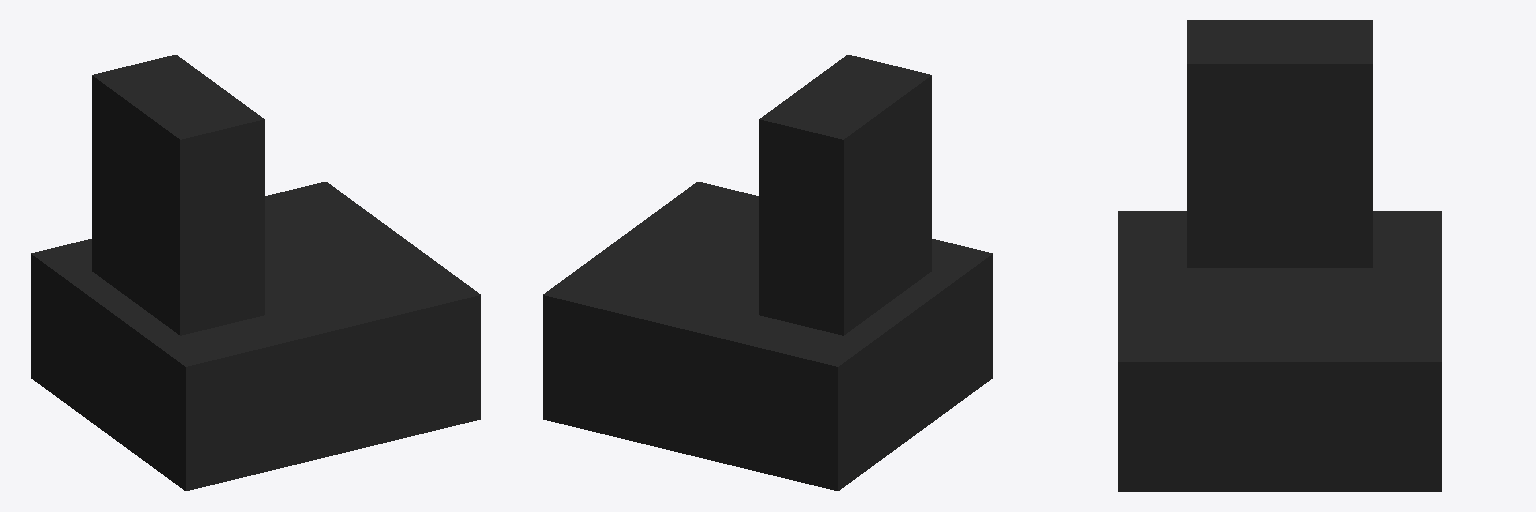
URDF robot description (sawyer_base):
<?xml version="1.0" ?>
<!-- =================================================================================== -->
<!-- |    This document was autogenerated by xacro from ./urdf.xacro                   | -->
<!-- |    EDITING THIS FILE BY HAND IS NOT RECOMMENDED                                 | -->
<!-- =================================================================================== -->
<robot name="sawyer_base" xmlns:xacro="http://www.ros.org/wiki/xacro">
  <material name="black">
    <color rgba="0 0 0 1"/>
  </material>
  <material name="darkgray">
    <color rgba=".2 .2 .2 1"/>
  </material>
  <material name="darkred">
    <color rgba=".5 .1 .1 1"/>
  </material>
  <material name="sawyer_red">
    <color rgba=".5 .1 .1 1"/>
  </material>
  <material name="sawyer_gray">
    <color rgba="0.75294 0.75294 0.75294 1"/>
  </material>
  <link name="base">
    <inertial>
      <origin rpy="0 0 0" xyz="0 0 0"/>
      <mass value="1"/>
      <inertia ixx="1" ixy="0" ixz="0" iyy="1" iyz="0" izz="1"/>
    </inertial>
  </link>
  <link name="torso">
    <visual>
      <origin rpy="0 0 0" xyz="0 0 0"/>
      <geometry>
        <box size="0 0 0"/>
      </geometry>
      <material name="darkgray"/>
    </visual>
    <inertial>
      <origin rpy="0 0 0" xyz="0.000000 0.000000 0.000000"/>
      <mass value="0.0001"/>
      <inertia ixx="1e-08" ixy="0" ixz="0" iyy="1e-08" iyz="0" izz="1e-08"/>
    </inertial>
  </link>
  <link name="pedestal">
    <visual>
      <origin rpy="1.57079632679 0 -1.57079632679" xyz="0.26 0.345 -0.91488"/>
      <geometry>
        <mesh filename="package://sawyer_description/meshes/sawyer_pv/pedestal.STL"/>
      </geometry>
      <material name="darkgray"/>
    </visual>
    <collision>
      <origin rpy="0 0 0" xyz="0 0 -0.30"/>
      <geometry>
        <cylinder length="0.62" radius="0.18"/>
      </geometry>
    </collision>
    <inertial>
      <origin rpy="0 0 0" xyz="0 0 0"/>
      <mass value="60.86397744"/>
      <inertia ixx="5.0635929" ixy="0.00103417" ixz="0.80199628" iyy="6.08689388" iyz="0.00105311" izz="4.96191932"/>
    </inertial>
  </link>
  <link name="controller_box">
    <inertial>
      <origin rpy="0 0 0" xyz="0 0 0"/>
      <mass value="1"/>
      <inertia ixx="1" ixy="0" ixz="0" iyy="1" iyz="0" izz="1"/>
    </inertial>
    <visual>
      <origin rpy="0 0 0" xyz="-0.325 0 -0.38"/>
      <geometry>
        <box size="0.22 0.4 0.53"/>
      </geometry>
      <material name="darkgray"/>
    </visual>
    <collision>
      <origin rpy="0 0 0" xyz="-0.325 0 -0.38"/>
      <geometry>
        <box size="0.22 0.4 0.53"/>
      </geometry>
    </collision>
  </link>
  <joint name="controller_box_fixed" type="fixed">
    <origin rpy="0 0 0" xyz="0.0 0.0 0.0"/>
    <parent link="base"/>
    <child link="controller_box"/>
  </joint>
  <link name="pedestal_feet">
    <inertial>
      <origin rpy="0 0 0" xyz="0 0 0"/>
      <mass value="1"/>
      <inertia ixx="1" ixy="0" ixz="0" iyy="1" iyz="0" izz="1"/>
    </inertial>
    <visual>
      <origin rpy="0 0 0" xyz="-0.1225 0 -0.758"/>
      <geometry>
        <box size="0.77 0.7 0.31"/>
      </geometry>
      <material name="darkgray"/>
    </visual>
    <collision>
      <origin rpy="0 0 0" xyz="-0.1225 0 -0.758"/>
      <geometry>
        <box size="0.77 0.7 0.31"/>
      </geometry>
    </collision>
  </link>
  <joint name="pedestal_feet_fixed" type="fixed">
    <origin rpy="0 0 0" xyz="0.0 0.0 0.0"/>
    <parent link="base"/>
    <child link="pedestal_feet"/>
  </joint>
  <joint name="torso_t0" type="fixed">
    <origin rpy="0 0 0" xyz="0 0 0"/>
    <parent link="base"/>
    <child link="torso"/>
  </joint>
  <joint name="pedestal_fixed" type="fixed">
    <origin rpy="0 0 0" xyz="0.0 0.0 0.0"/>
    <parent link="base"/>
    <child link="pedestal"/>
  </joint>
</robot>

--- What the picture shows (computed from the rendered views, not written in the file) ---
Views: 3 orthographic renders of the robot side by side, from view 1: azimuth 30°, elevation 25°; view 2: azimuth 150°, elevation 25°; view 3: azimuth 270°, elevation 25°.
Model sawyer_base with 5 links and 4 joints (4 fixed), rooted at base, posed all joints at 0.
Links seen in each view (by area): view 1: pedestal_feet, controller_box; view 2: pedestal_feet, controller_box; view 3: pedestal_feet, controller_box.
Link boxes in pixels (box(x1,y1,x2,y2)): pedestal_feet: box(31, 182, 480, 490); controller_box: box(92, 55, 264, 335); pedestal_feet: box(543, 182, 992, 490); controller_box: box(759, 55, 931, 335); pedestal_feet: box(1118, 211, 1441, 491); controller_box: box(1187, 20, 1372, 267).
Bounding box of the posed robot: 0.77 × 0.7 × 0.913 m (x, y, z).
0 mesh visuals loaded from 1 distinct referenced files (none loaded); not drawn: 1 (reference not matched to a file when rendering).
